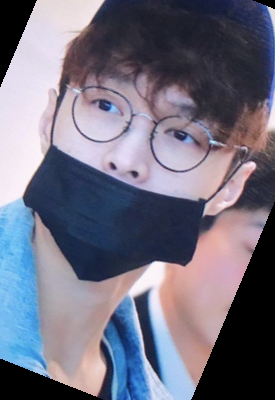mask_weared_incorrect: (21, 1, 274, 311)
